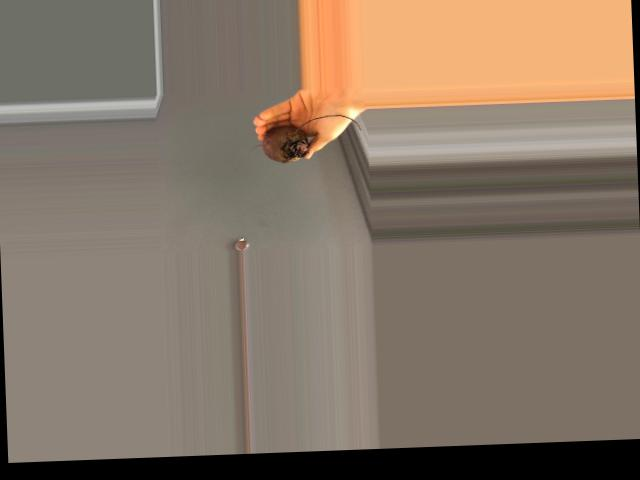beet: (249, 113, 361, 163)
